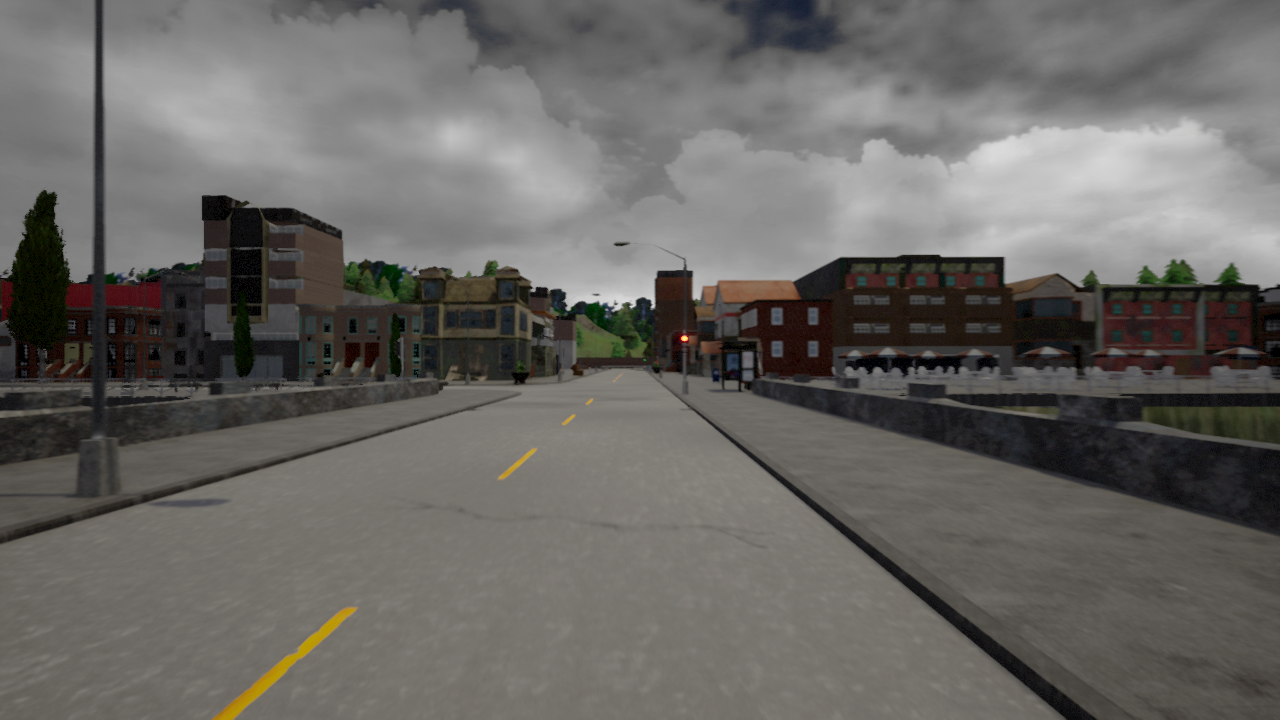red: (680, 333, 689, 354)
